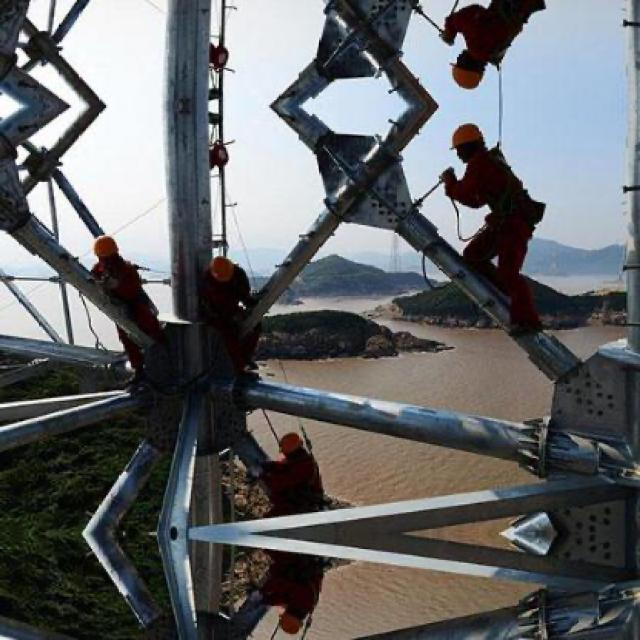con casco: (418, 114, 516, 164), (441, 33, 503, 94), (202, 234, 266, 288)
